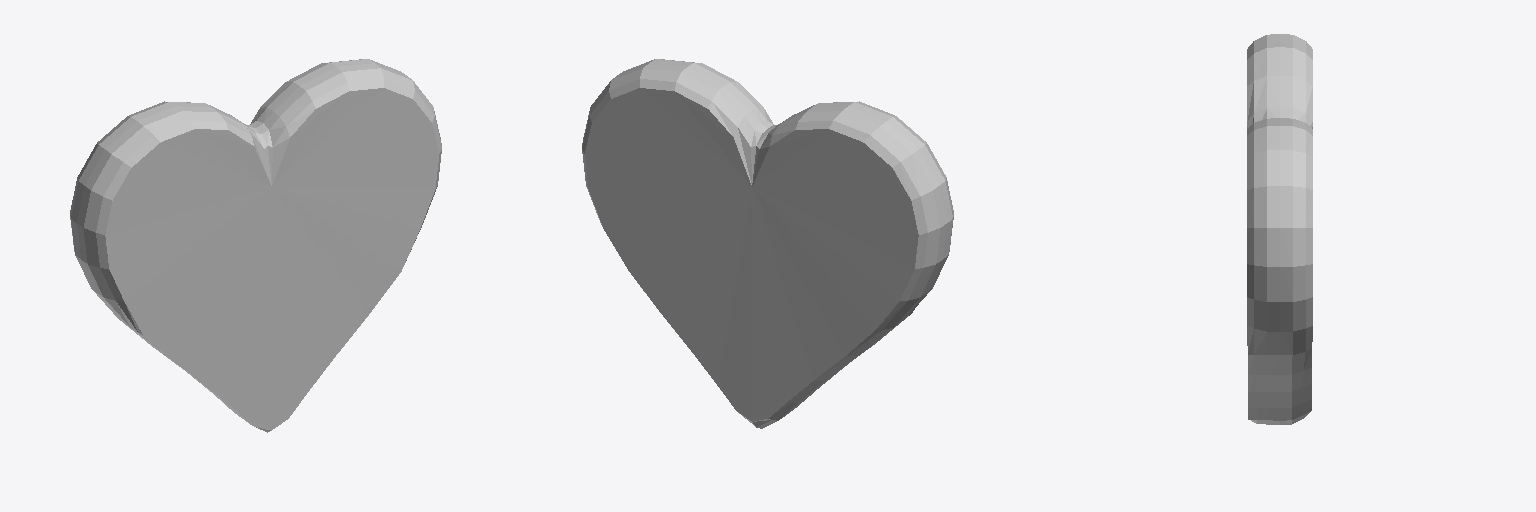
File: heart.obj
3 renders of one model, left to right at view 1: azimuth 30°, elevation 25°; view 2: azimuth 150°, elevation 25°; view 3: azimuth 270°, elevation 25°, orthographic.
Parts seen in each view (by area): view 1: Circle; view 2: Circle; view 3: Circle.
Boxes of the visible parts, box(x1,y1,x2,y2) form: Circle: box(70, 59, 441, 432); Circle: box(582, 59, 953, 428); Circle: box(1247, 34, 1312, 424).
Bounding box in the file's own units: 0.8893 × 0.8037 × 0.1404.